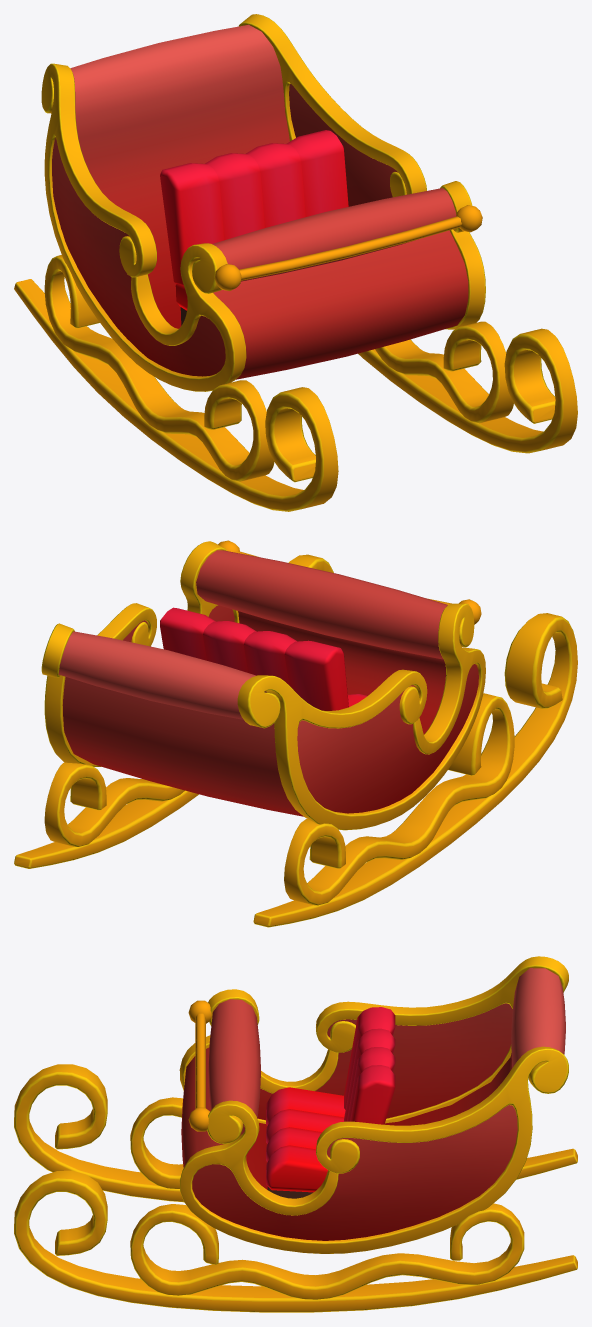
The model's file is sleigh_001_001.001.fbx.
The picture shows the model from 3 angles, top to bottom: view 1: azimuth 30°, elevation 25°; view 2: azimuth 150°, elevation 25°; view 3: azimuth 270°, elevation 25°; orthographic projection. The views are drawn at different scales.
Parts seen in each view (by area): view 1: sleigh_001_001.001; view 2: sleigh_001_001.001; view 3: sleigh_001_001.001.
Boxes of the visible parts, box(x1,y1,x2,y2) form: sleigh_001_001.001: box(14, 14, 577, 511); sleigh_001_001.001: box(14, 540, 577, 927); sleigh_001_001.001: box(14, 956, 577, 1312).
Bounding box in the file's own units: 285 × 532 × 261.
